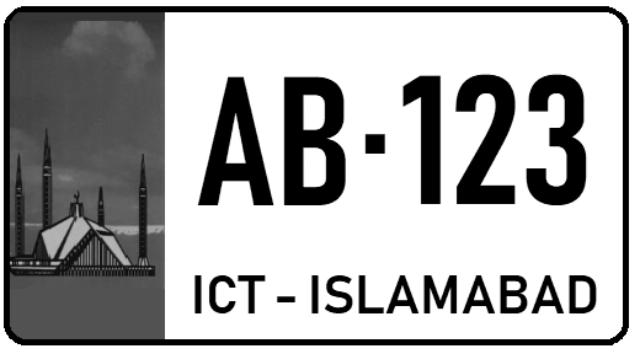Number: (190, 58, 594, 220)
